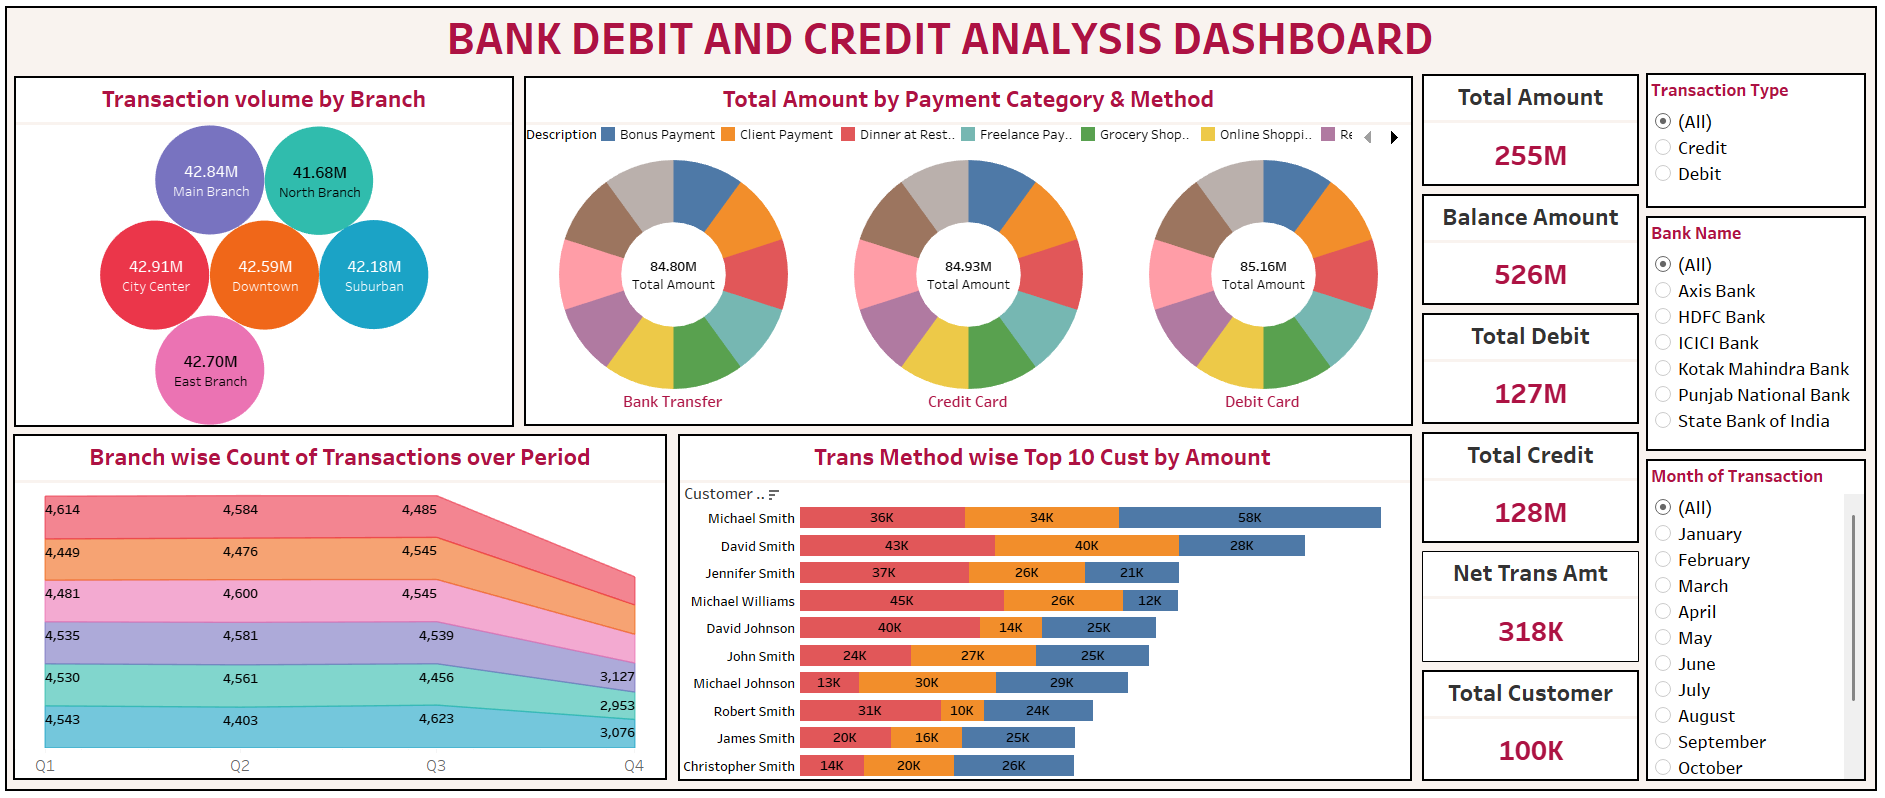

Layout of this report page (visuals, bound fields, positions):
{"tool":"tableau","page":{"name":"Dashboard 1","canvas":[1000,1000],"units":"permille","ordinal":0},"visuals":[{"type":"text","box":[10,11.2,978.9,77.4]},{"type":"filter","title":"branch wise trsn","param":"[federated.1ci56c11etwc3q1522c0q0b4lwnd].[none:Transaction Type:nk]","box":[871.3,88.6,120.8,178.5]},{"type":"worksheet","title":"Total Amt","mark":"Automatic","box":[752.6,89.9,119.2,149.8]},{"type":"worksheet","title":"branch wise trsn","mark":"Circle","box":[9,97.4,264.8,438.2]},{"type":"worksheet","title":"amt by Cat & mtd","mark":"Pie","rows":["Calculation_803329604198883328","Calculation_803329604198883328"],"cols":["Transaction Method"],"box":[279.1,97.4,470.9,436.9]},{"type":"legend","title":"amt by Cat & mtd","param":"[federated.1ci56c11etwc3q1522c0q0b4lwnd].[none:Description:nk]","box":[280.2,157.3,468.2,33.7]},{"type":"worksheet","title":"Bal Amt","mark":"Automatic","box":[752.6,239.7,119.2,148.6]},{"type":"filter","title":"branch wise trsn","param":"[federated.1ci56c11etwc3q1522c0q0b4lwnd].[none:Bank Name:nk]","box":[871.3,267.2,120.8,303.4]},{"type":"worksheet","title":"Credit","mark":"Automatic","box":[752.6,388.3,119.2,148.6]},{"type":"worksheet","title":"Debit","mark":"Automatic","box":[752.6,536.8,119.2,148.6]},{"type":"worksheet","title":"trsn over prd","mark":"Area","rows":["Calculation_803329604219031553"],"cols":["Transaction Date"],"box":[8.5,544.3,346.4,432]},{"type":"worksheet","title":"Cust by Bal","mark":"Automatic","rows":["Customer Name"],"cols":["Amount"],"box":[360.7,544.3,388.8,433.2]},{"type":"filter","title":"branch wise trsn","param":"[federated.1ci56c11etwc3q1522c0q0b4lwnd].[mn:Transaction Date:ok]","box":[871.3,570.5,120.8,412]},{"type":"worksheet","title":"Net","mark":"Automatic","box":[752.6,685.4,119.2,148.6]},{"type":"worksheet","title":"Total Cust","mark":"Automatic","box":[752.6,834,119.2,148.6]}]}

Visuals, with their boxes on the dashboard's canvas, which has no fixed pixel size, in thousandths of its width and height (x1, y1, x2, y2). These are canvas units, not pixel positions in the 1885x798 screenshot, which may show the page scaled, cropped or inside an application window:
text: [left=10, top=11, right=989, bottom=89]
"branch wise trsn" filter: [left=871, top=89, right=992, bottom=267]
"Total Amt" worksheet: [left=753, top=90, right=872, bottom=240]
"branch wise trsn" worksheet (Circle marks): [left=9, top=97, right=274, bottom=536]
"amt by Cat & mtd" worksheet (Pie marks): [left=279, top=97, right=750, bottom=534]
"amt by Cat & mtd" legend: [left=280, top=157, right=748, bottom=191]
"Bal Amt" worksheet: [left=753, top=240, right=872, bottom=388]
"branch wise trsn" filter: [left=871, top=267, right=992, bottom=571]
"Credit" worksheet: [left=753, top=388, right=872, bottom=537]
"Debit" worksheet: [left=753, top=537, right=872, bottom=685]
"trsn over prd" worksheet (Area marks): [left=8, top=544, right=355, bottom=976]
"Cust by Bal" worksheet: [left=361, top=544, right=750, bottom=978]
"branch wise trsn" filter: [left=871, top=570, right=992, bottom=982]
"Net" worksheet: [left=753, top=685, right=872, bottom=834]
"Total Cust" worksheet: [left=753, top=834, right=872, bottom=983]
